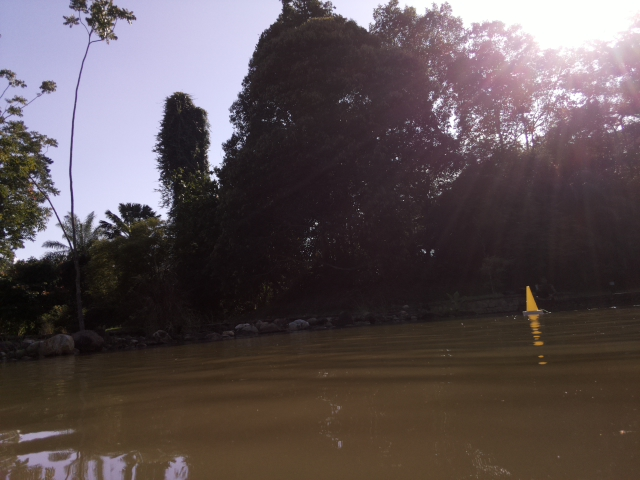checkpoint: (521, 284, 542, 315)
